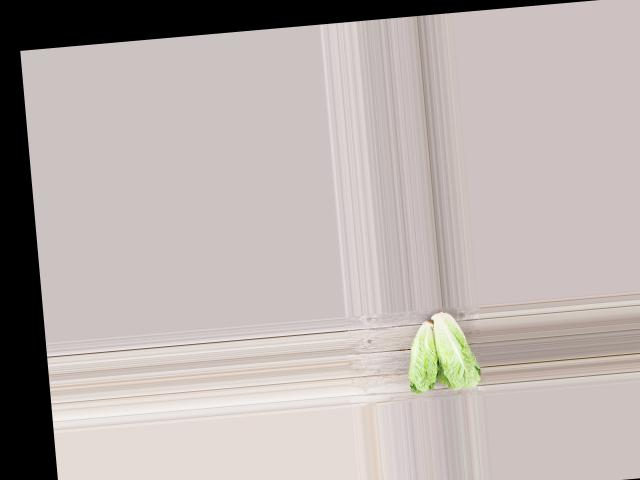lettuce: (430, 305, 484, 394)
